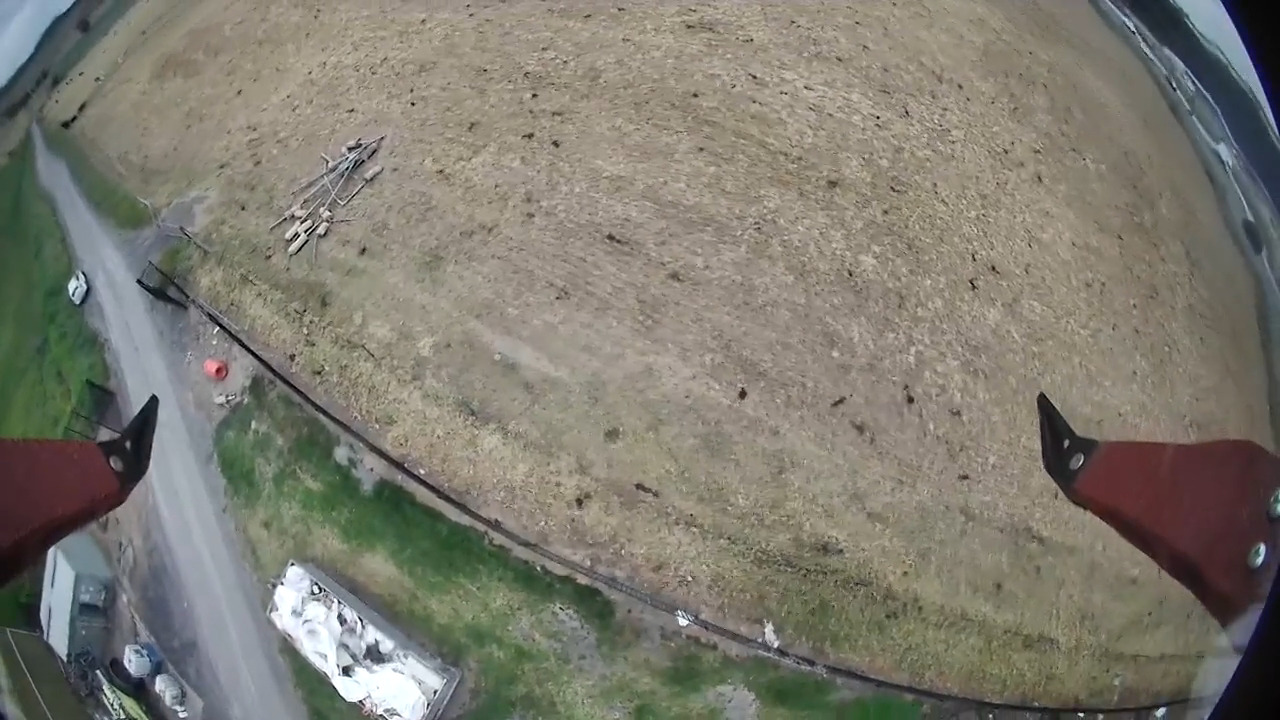Car: (66, 270, 89, 306)
